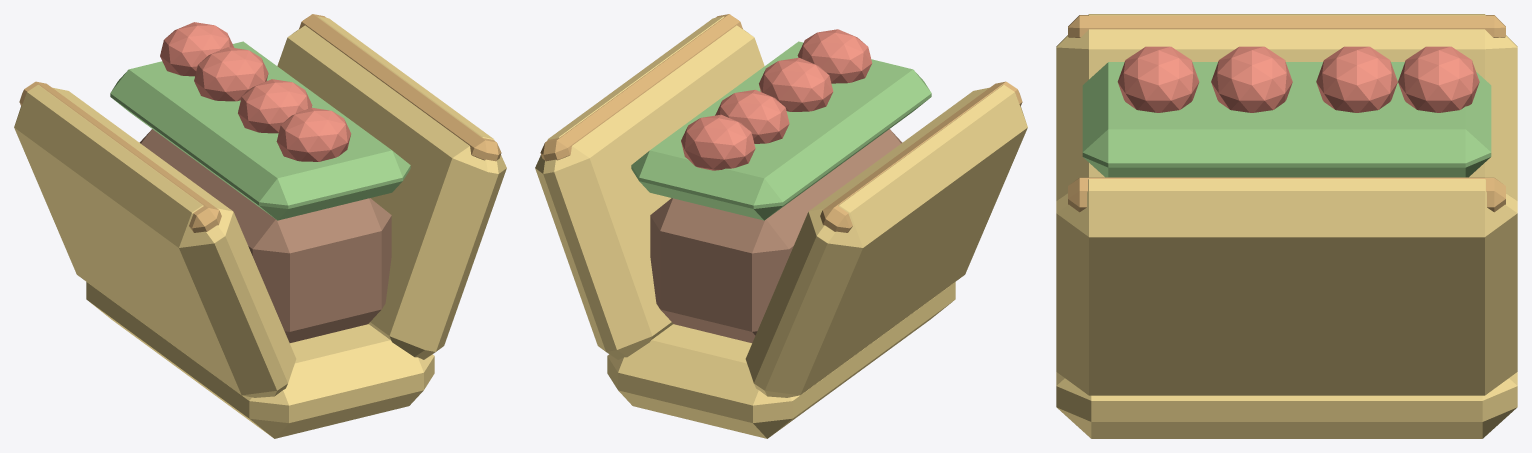
File: Taco.glb
3 views of the same model, side by side, from view 1: azimuth 30°, elevation 25°; view 2: azimuth 150°, elevation 25°; view 3: azimuth 270°, elevation 25° (orthographic). The views are drawn at different scales.
Parts seen in each view (by area): view 1: Visual; view 2: Visual; view 3: Visual.
Boxes of the visible parts, bbox=[...] form: Visual: bbox=[14, 14, 506, 438]; Visual: bbox=[535, 14, 1027, 438]; Visual: bbox=[1056, 14, 1517, 438].
Size of the model in its own units: 0.3894 by 0.33 by 0.395.
